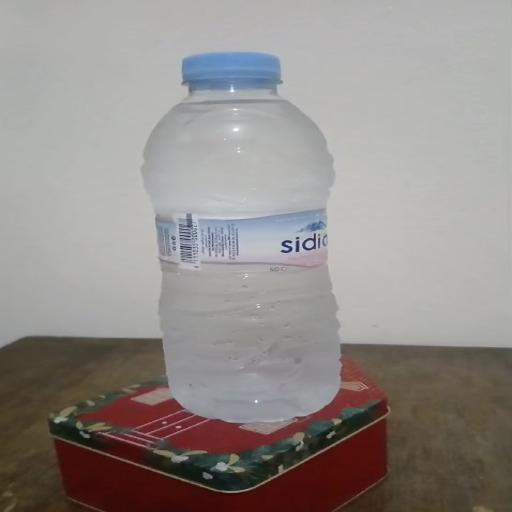bouteille conformite: (155, 54, 351, 418)
